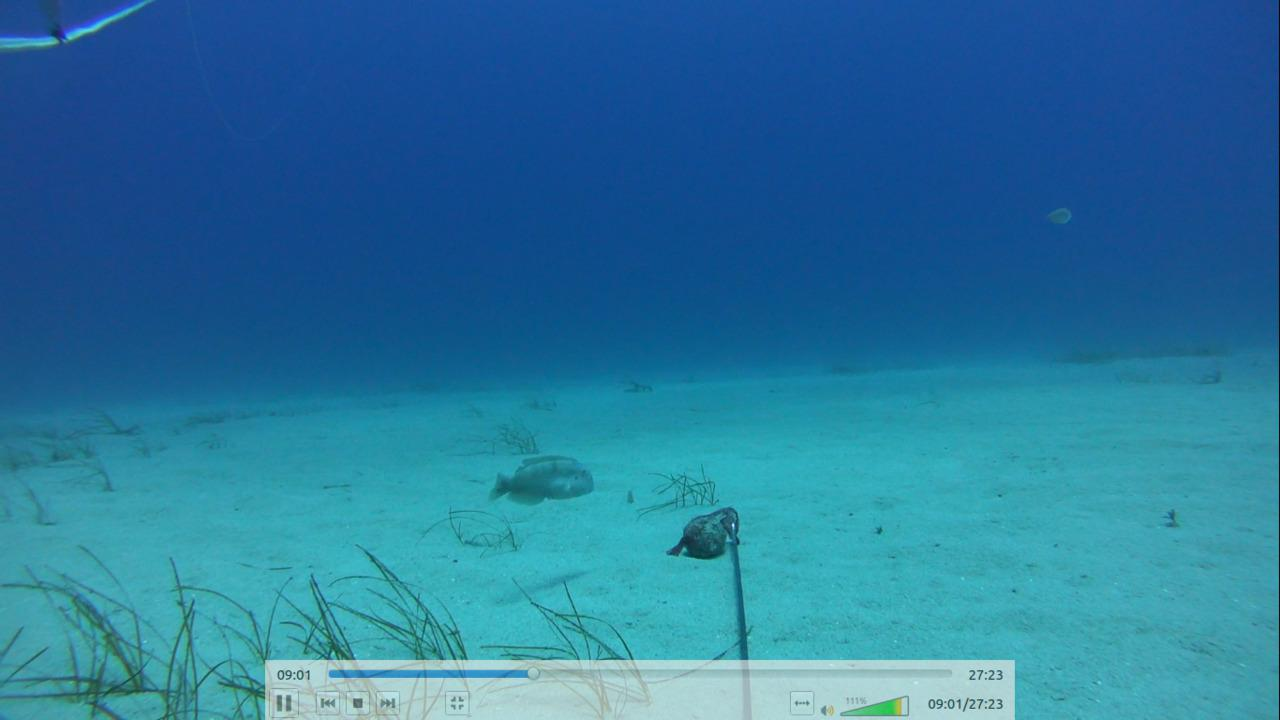raor: (478, 450, 604, 510), (1036, 197, 1084, 232)
